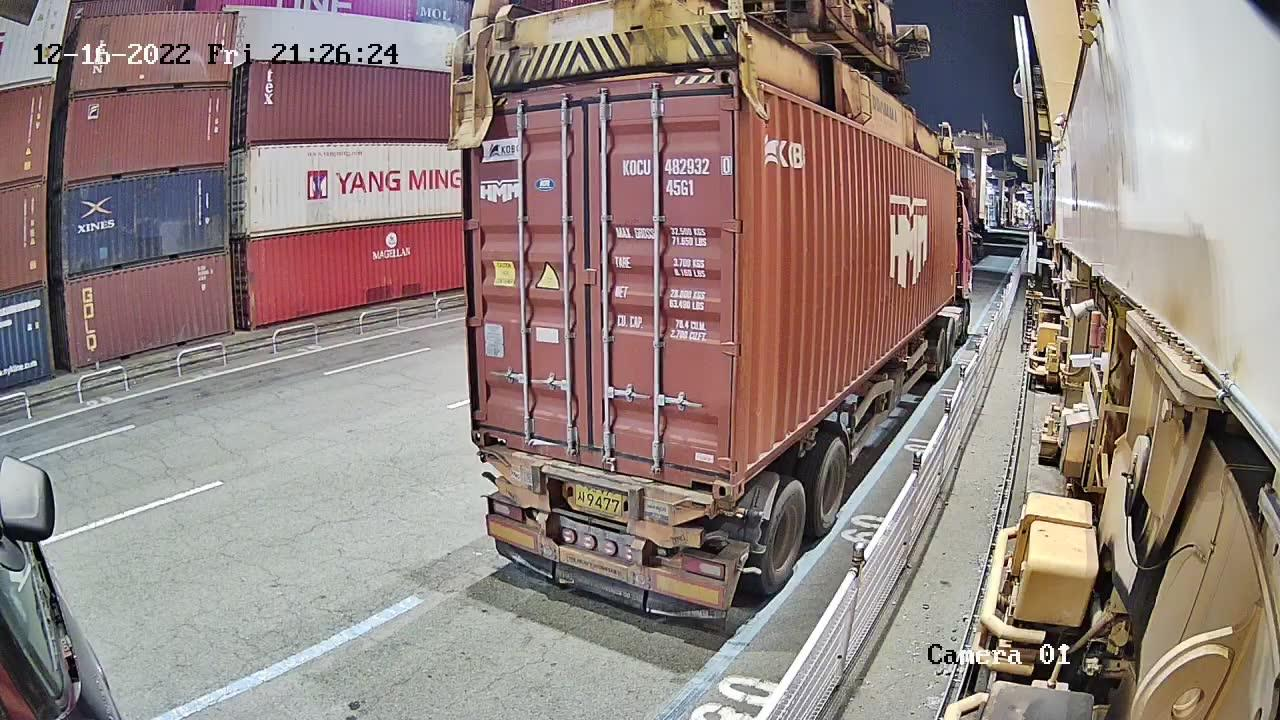Chassis: (479, 449, 728, 548)
Cone: (723, 502, 736, 519)
Hole_L: (471, 401, 512, 454), (731, 441, 762, 498)
Hole_R: (688, 440, 731, 497)
Tire: (762, 483, 808, 594), (818, 444, 850, 532)
